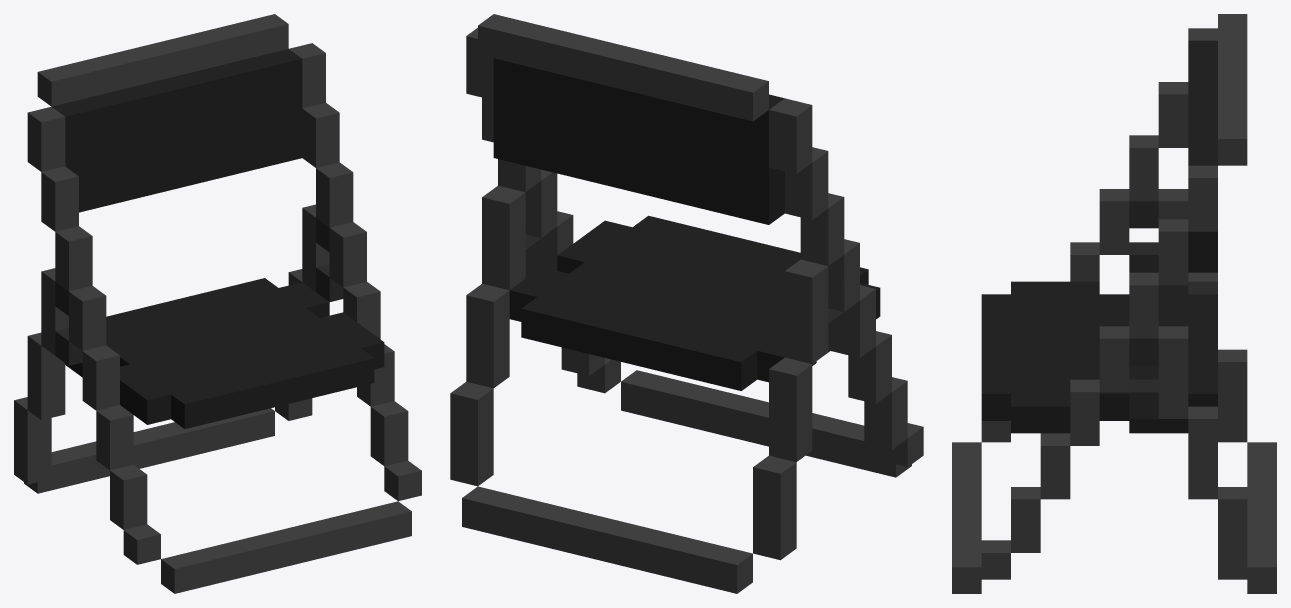
File: FoldableChair.obj
3 renders of one model, left to right at view 1: azimuth 30°, elevation 25°; view 2: azimuth 150°, elevation 25°; view 3: azimuth 270°, elevation 25°, orthographic. The views are drawn at different scales.
Size of the model in its own units: 1.2 by 1.7 by 1.1.
Materials: 1 (1 with a texture image).
